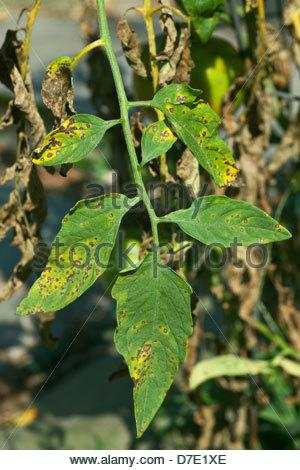Tomato Septoria leaf spot: (108, 245, 202, 440), (13, 186, 126, 323), (146, 75, 248, 184), (168, 186, 300, 260), (27, 109, 123, 172)
